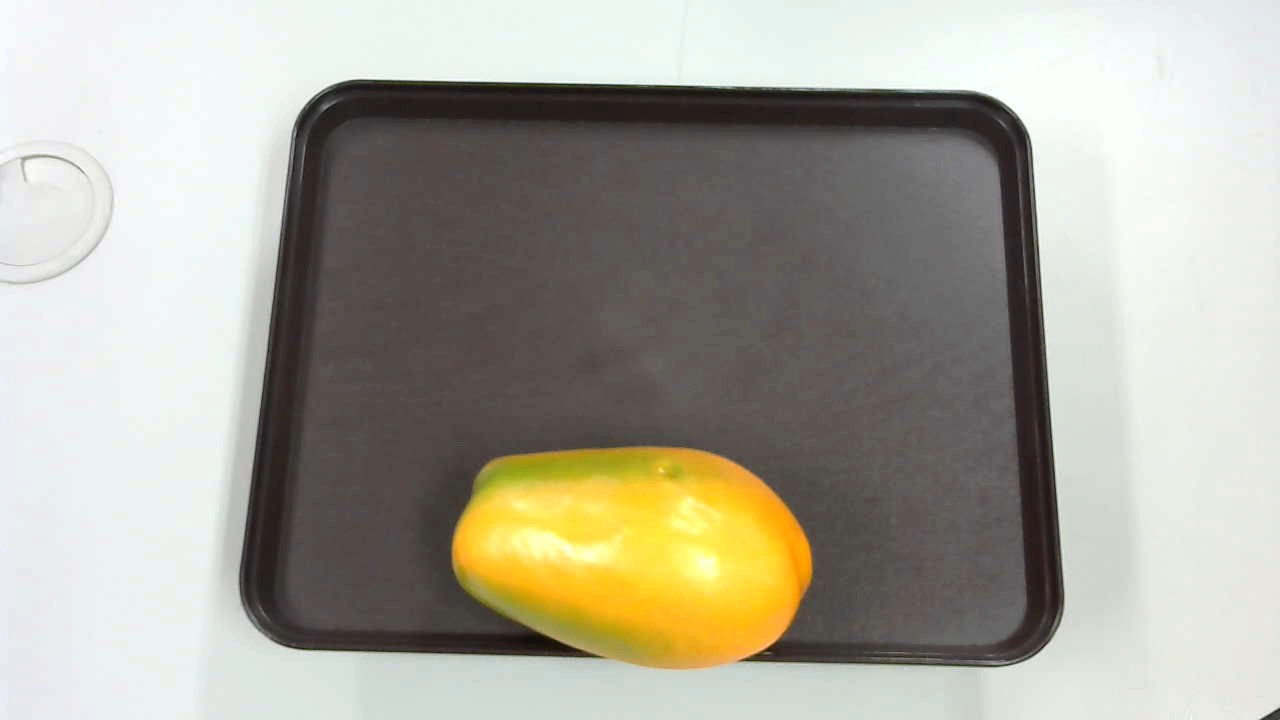papya: (452, 442, 813, 668)
